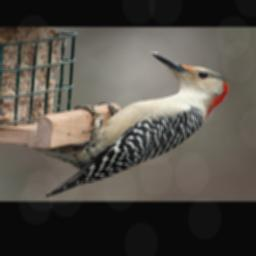Woodpecker: (31, 51, 230, 197)
